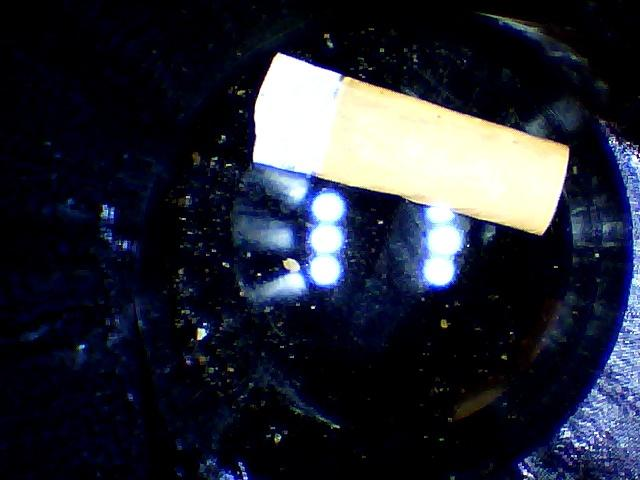megot: (234, 44, 599, 250)
